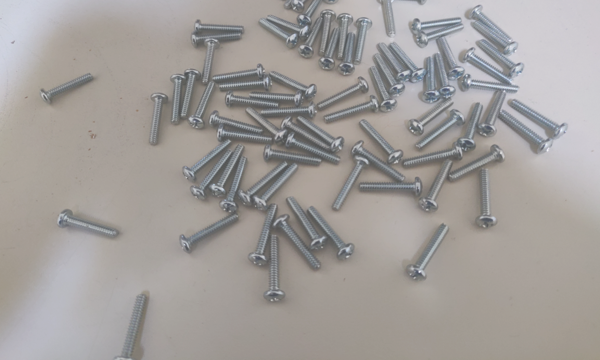longscrew: (306, 206, 352, 260), (409, 226, 452, 283), (421, 159, 464, 216), (277, 216, 320, 270), (254, 164, 303, 210), (238, 161, 287, 206), (180, 215, 239, 252), (287, 194, 325, 249), (418, 108, 464, 153), (181, 139, 231, 180), (514, 96, 567, 134), (248, 202, 277, 269), (353, 144, 405, 181), (192, 150, 231, 199), (117, 297, 147, 360), (262, 233, 290, 300), (501, 112, 549, 151), (466, 49, 515, 86), (475, 40, 524, 77), (469, 16, 518, 53), (406, 143, 462, 175), (470, 3, 518, 40), (450, 150, 506, 181), (42, 69, 95, 101), (334, 159, 366, 212), (408, 99, 455, 135), (469, 170, 497, 230), (314, 76, 368, 106), (325, 97, 379, 127), (57, 211, 119, 237), (361, 119, 400, 160), (223, 158, 252, 212), (213, 142, 242, 196), (299, 117, 344, 150), (282, 118, 327, 151), (245, 105, 286, 141), (268, 67, 317, 97), (208, 110, 262, 137), (287, 135, 339, 163), (265, 142, 319, 168), (216, 126, 270, 152), (456, 103, 484, 153), (389, 40, 424, 80), (376, 40, 411, 80), (479, 92, 508, 140), (373, 55, 407, 95), (366, 68, 400, 108), (415, 22, 464, 48), (189, 83, 215, 129), (256, 19, 299, 46), (263, 13, 310, 36), (356, 179, 423, 195), (461, 76, 520, 94), (149, 94, 168, 148), (215, 76, 274, 92), (355, 15, 374, 63), (340, 29, 359, 77), (335, 9, 354, 57), (320, 27, 339, 75), (299, 17, 321, 58), (214, 62, 264, 80), (437, 52, 455, 100), (316, 7, 334, 55), (183, 69, 199, 122), (183, 69, 199, 121), (411, 15, 462, 31), (444, 35, 462, 80), (422, 56, 439, 103), (193, 20, 244, 35), (188, 29, 239, 44), (245, 91, 306, 103), (220, 94, 281, 106), (257, 104, 318, 116), (297, 0, 325, 26), (378, 0, 397, 38), (203, 36, 217, 87), (293, 0, 323, 10), (286, 0, 316, 5), (326, 0, 339, 6)
